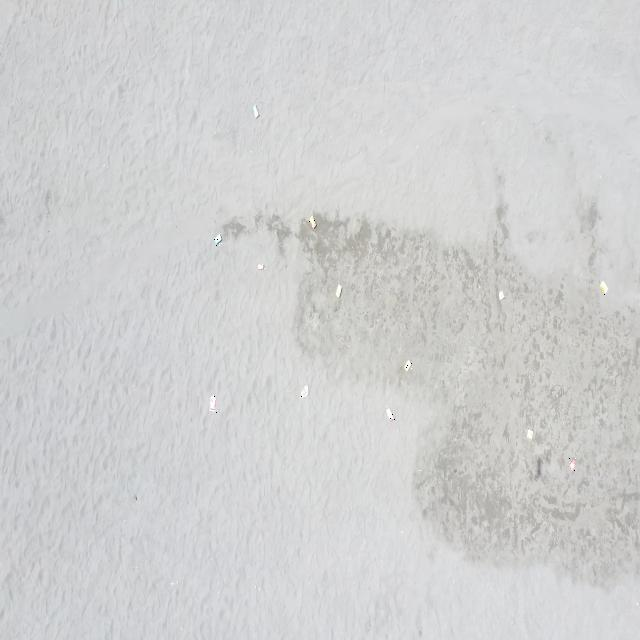retort-pouch: (208, 394, 217, 413), (300, 383, 310, 400), (386, 406, 395, 424), (525, 426, 535, 442), (252, 102, 260, 121), (569, 458, 577, 474), (309, 215, 317, 231), (335, 282, 343, 298), (404, 358, 412, 374), (600, 280, 608, 295), (214, 233, 222, 247), (257, 261, 265, 274), (500, 289, 506, 304)
